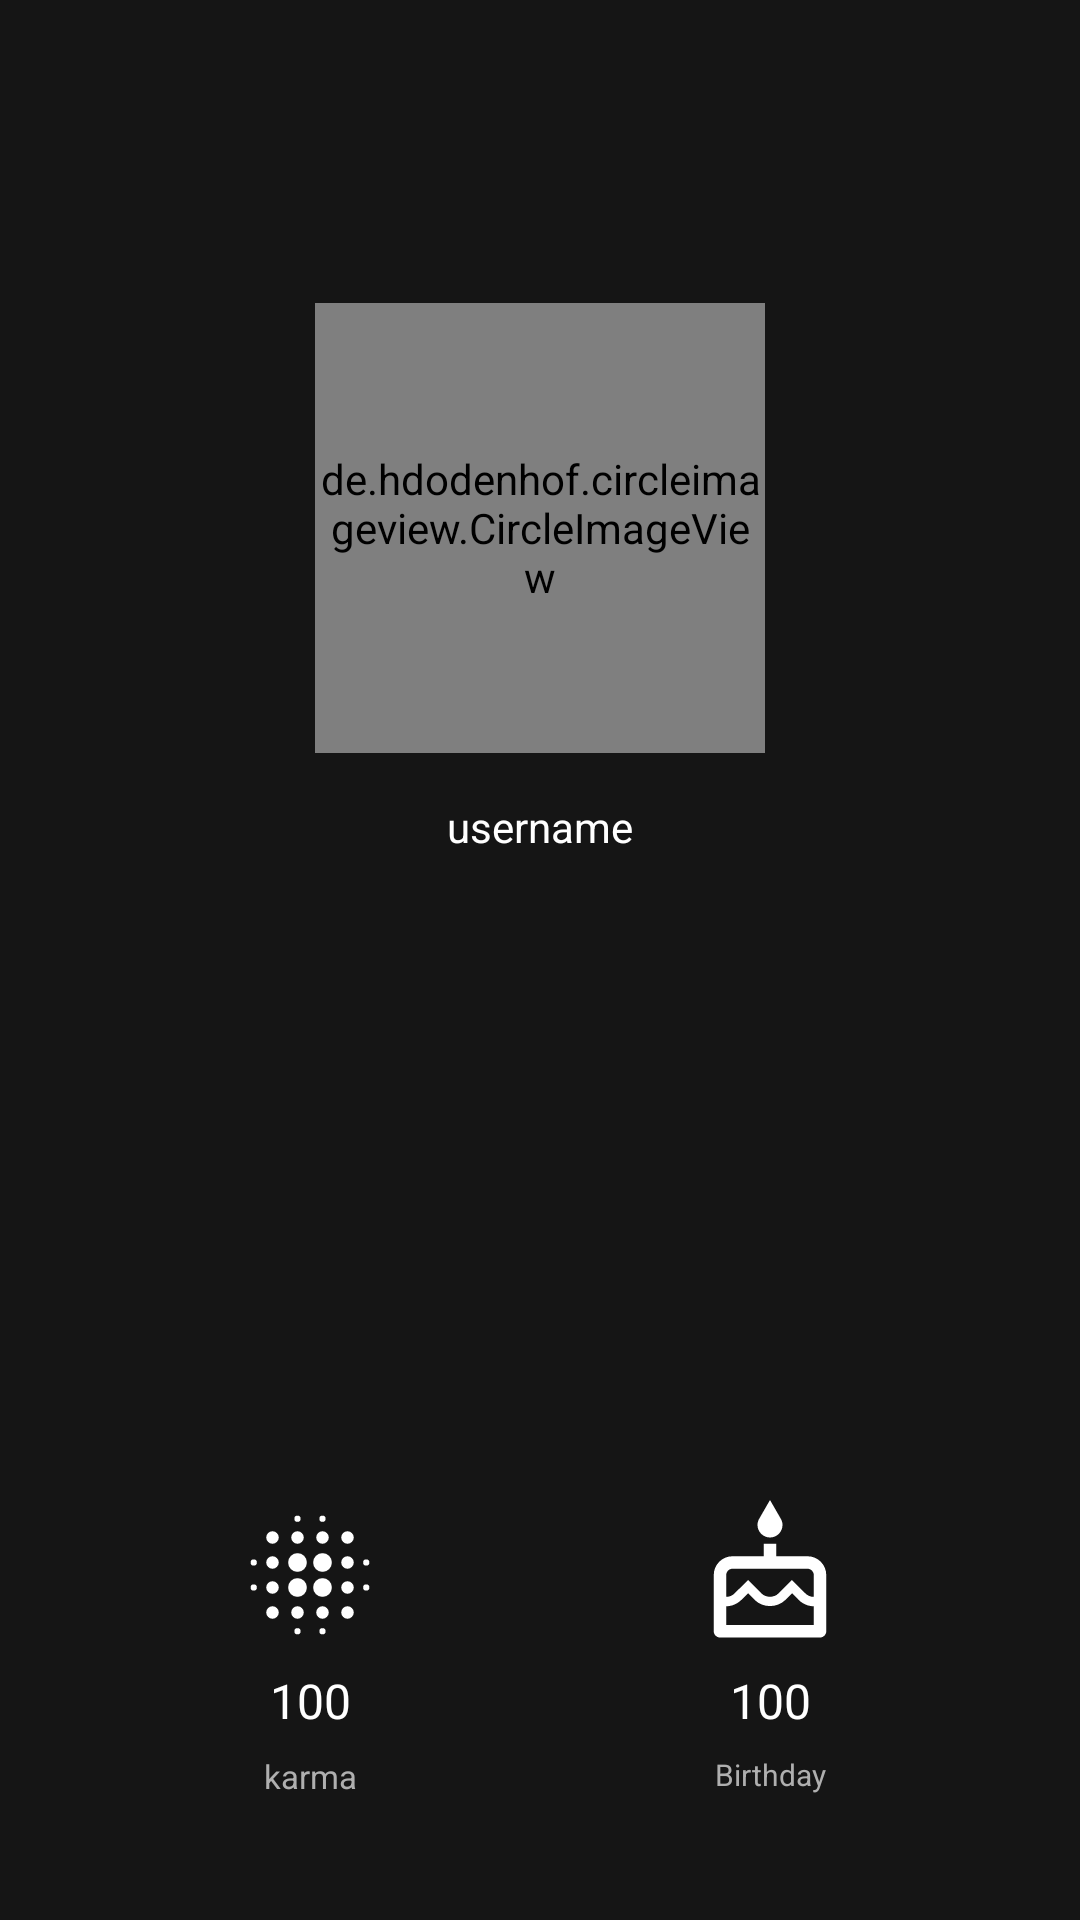

Point at icon controls on the screen. Image size 1080 × 1920, points as (x,y).
blur: (310,1575)
cake variant: (770,1569)
